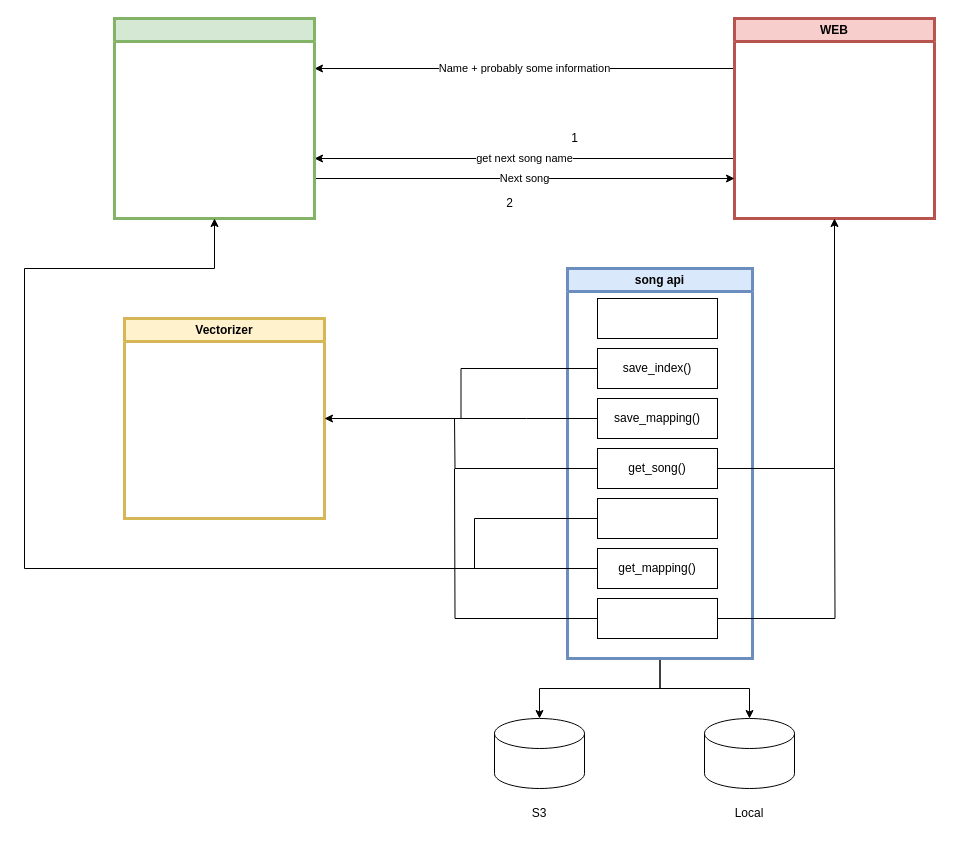
This 953x846 diagram has some shape labels left out. Here are the shapes that lost their labels. From the top down, the box of each, then its label:
(112, 16, 316, 220): MEM
(596, 298, 718, 338): save_song()
(596, 498, 718, 538): get_index()
(596, 598, 718, 638): get_song_df()
